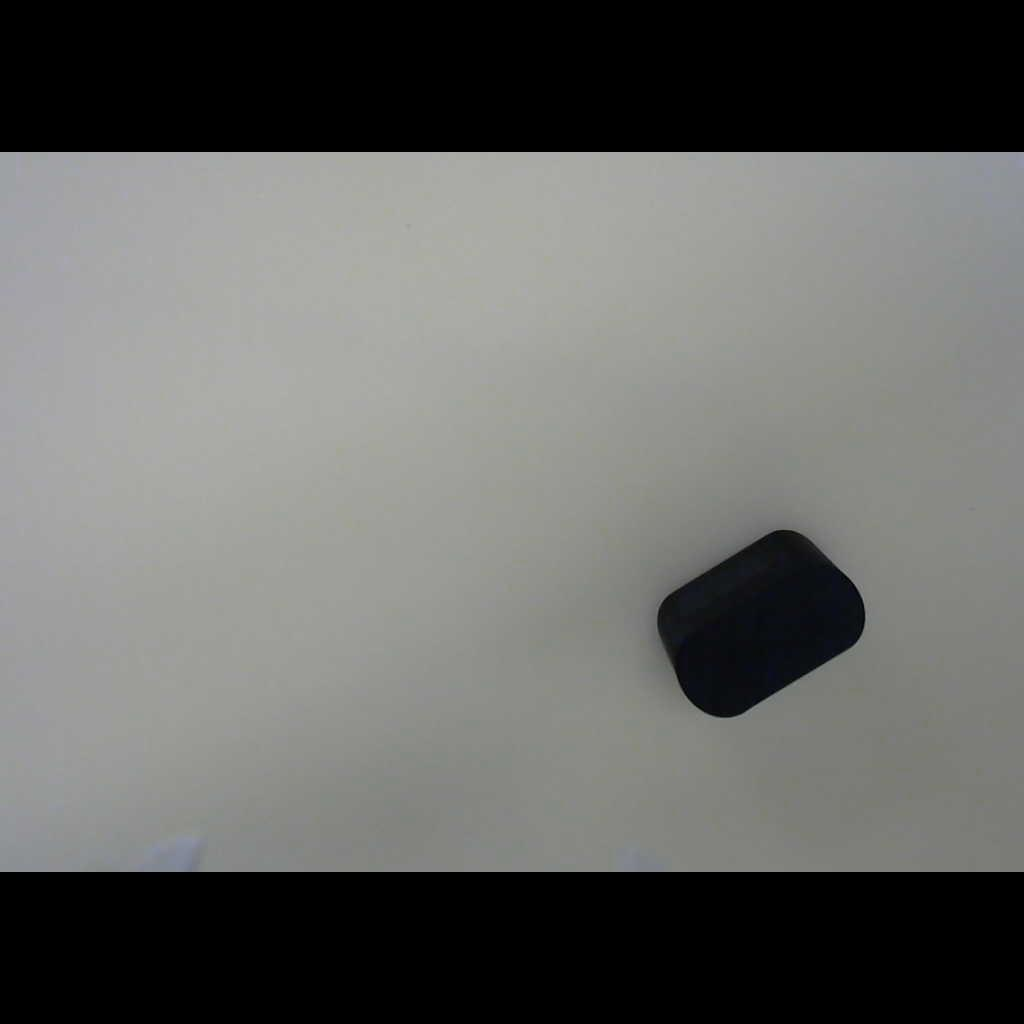oval: (632, 510, 884, 741)
